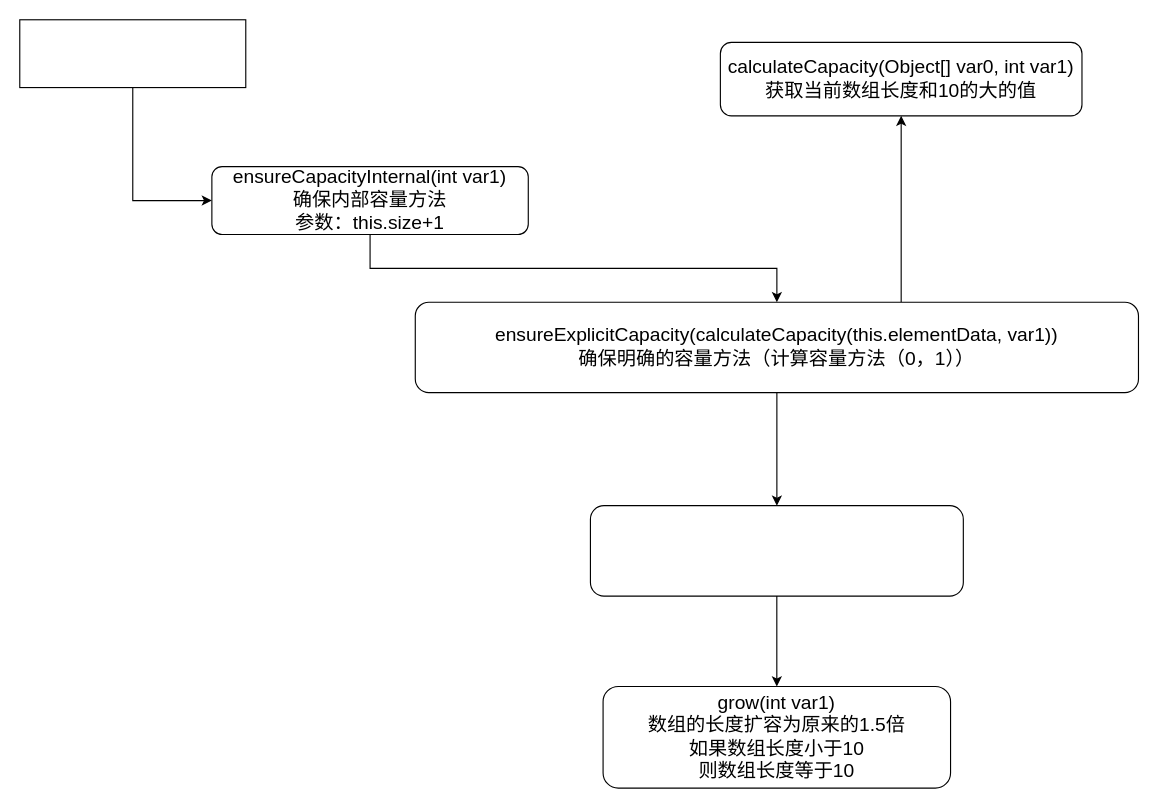
Image size: 1158x808. Some labels were removed from this diagram. The shapes that lost their labels are listed below. From the top down, each one's box as (x1, y1, x2, y2) in pixels, then its label:
(19, 19, 246, 88): add方法添加元素1
(589, 505, 963, 596): ensureExplicitCapacity(int var1) modCount+1 如果10-数据元素>0 则扩容
